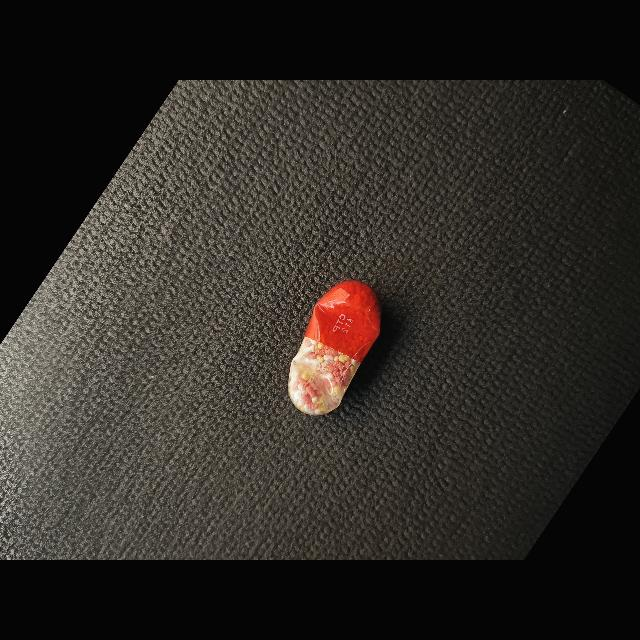Defective Capsule: (288, 280, 381, 415)
